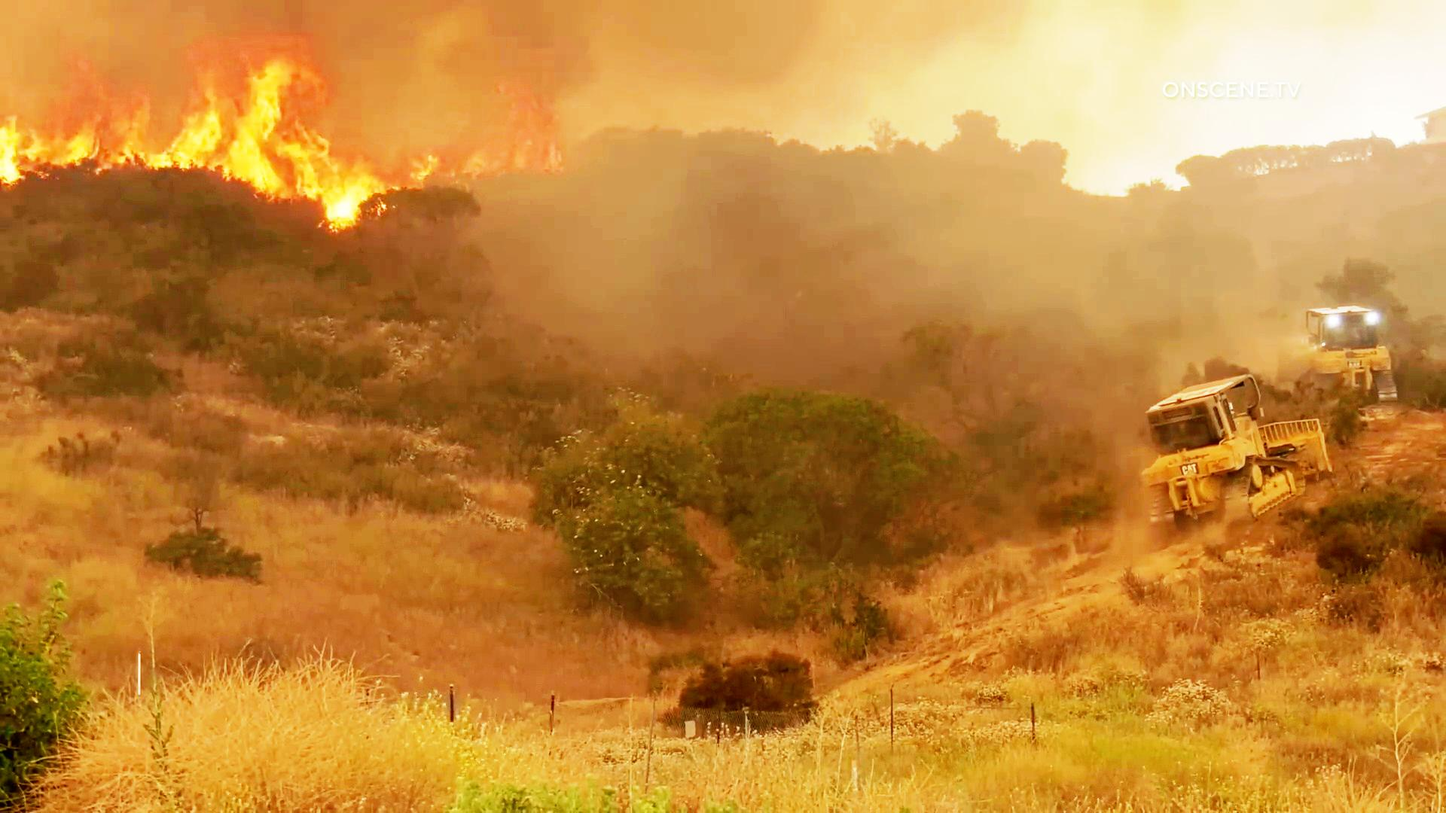fire: (160, 3, 308, 192), (296, 93, 546, 195), (12, 72, 165, 184)
